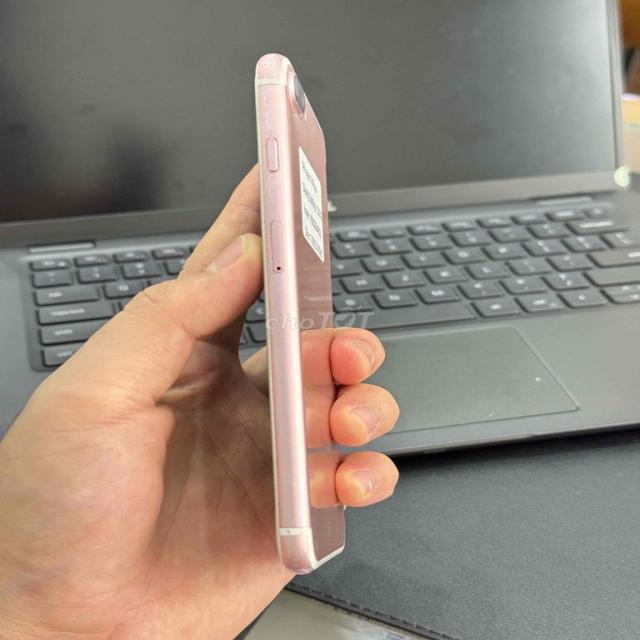gen_7_8: (256, 54, 344, 572)
scratch: (250, 51, 293, 76), (282, 560, 319, 585), (320, 523, 340, 554), (262, 95, 277, 131), (292, 97, 314, 119), (290, 378, 312, 399), (302, 283, 323, 305), (280, 524, 300, 542), (302, 265, 314, 281)
